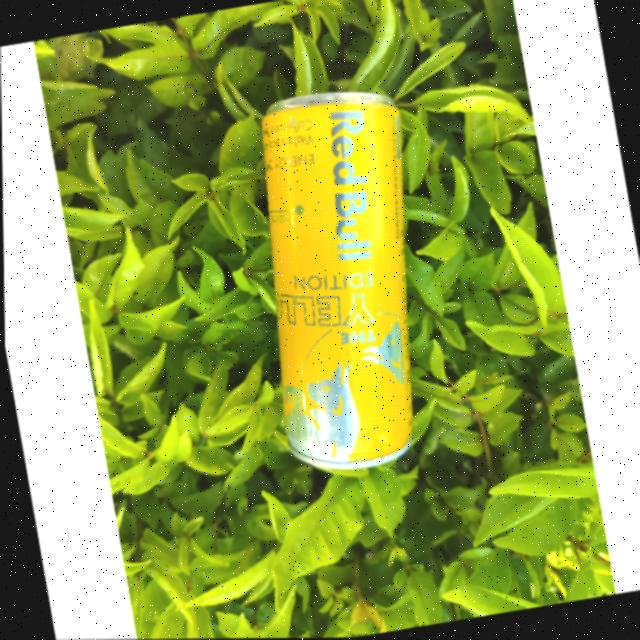Redbull Yellow Edition: (227, 90, 471, 485)
